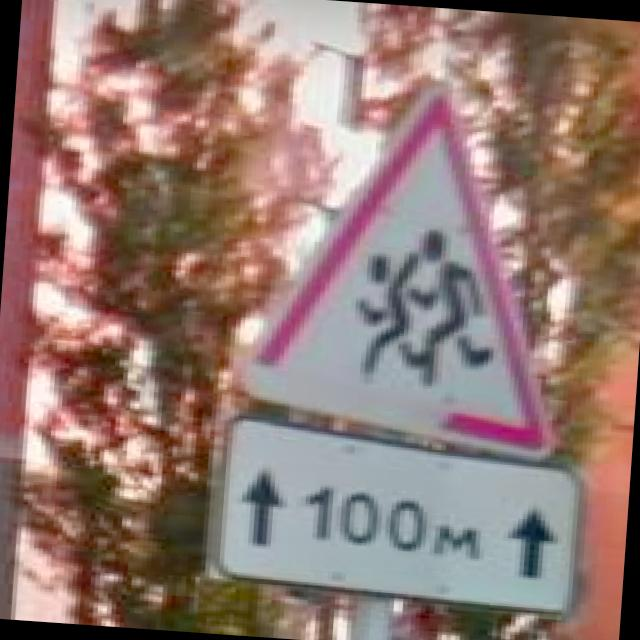Dzieci: (223, 68, 584, 460)
